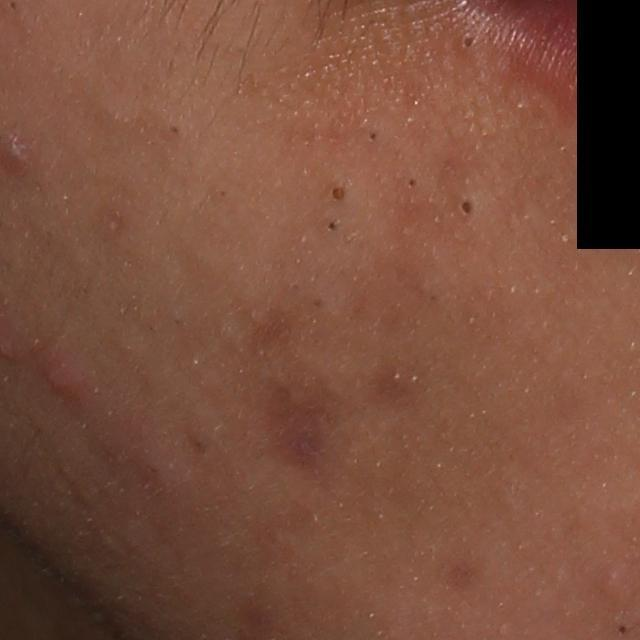comedo: (453, 27, 485, 56), (455, 192, 483, 222), (592, 568, 625, 592), (325, 182, 349, 206), (322, 214, 342, 231), (168, 119, 184, 139), (366, 128, 383, 140)
papule: (42, 340, 85, 400)
